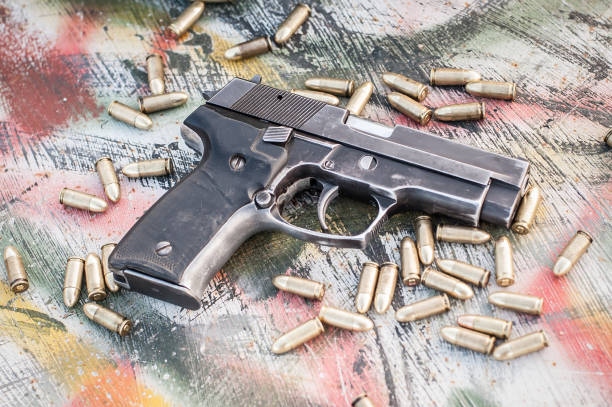gun: (108, 77, 532, 308)
